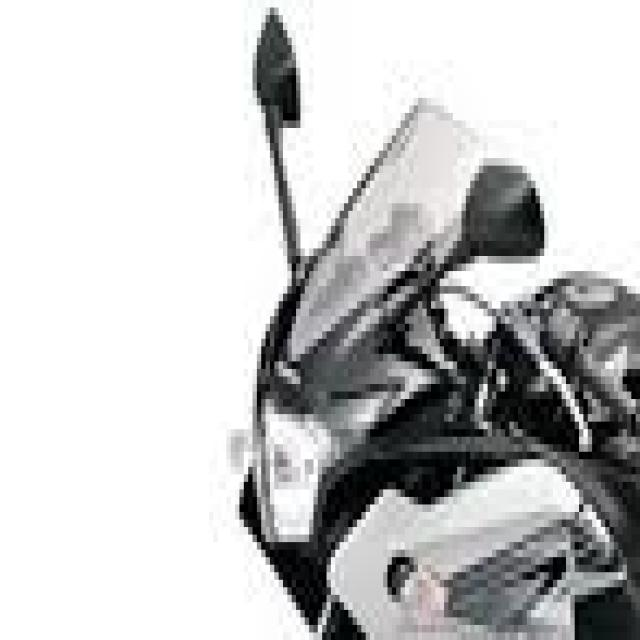bike: (91, 7, 639, 640)
